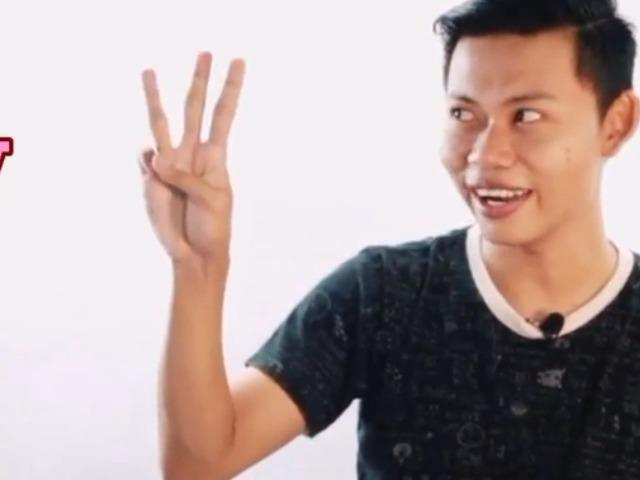W: (132, 46, 248, 268)
